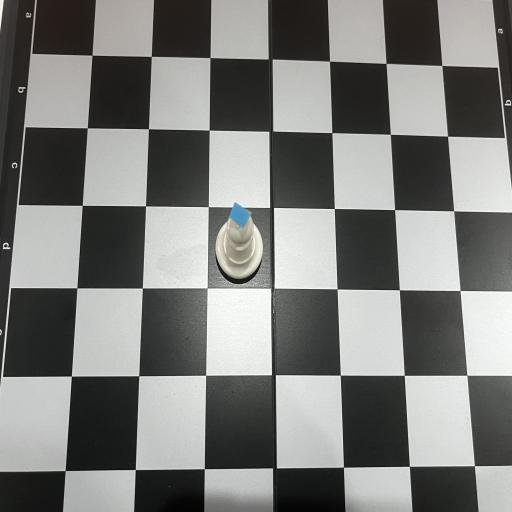White bishop: (216, 202, 263, 279)
